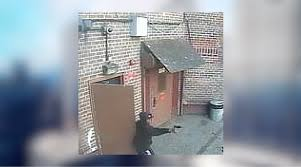gun: (169, 124, 185, 135)
